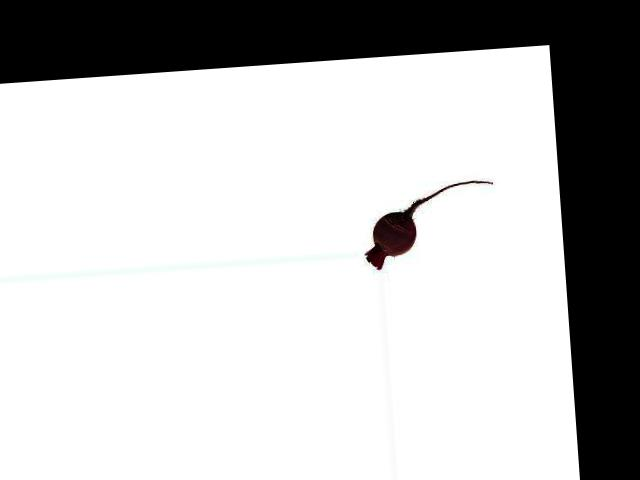beet: (361, 178, 499, 270)
